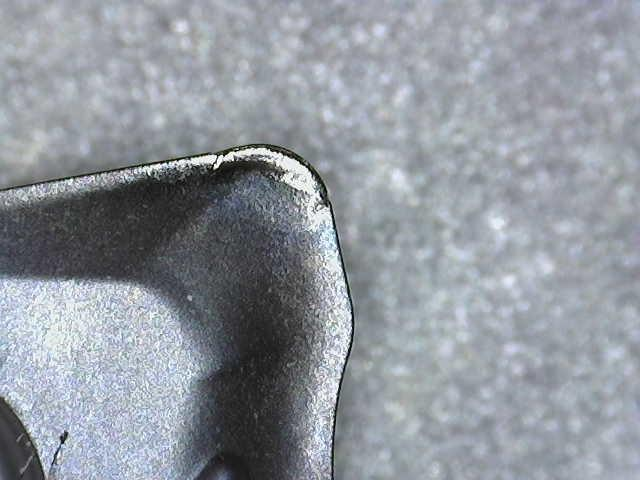normal: (2, 159, 209, 215), (314, 204, 351, 480)
wear: (184, 147, 326, 204)
